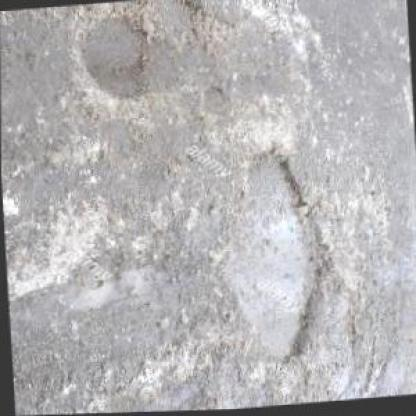pothole: (215, 141, 340, 372), (76, 8, 154, 103), (64, 248, 162, 318)
